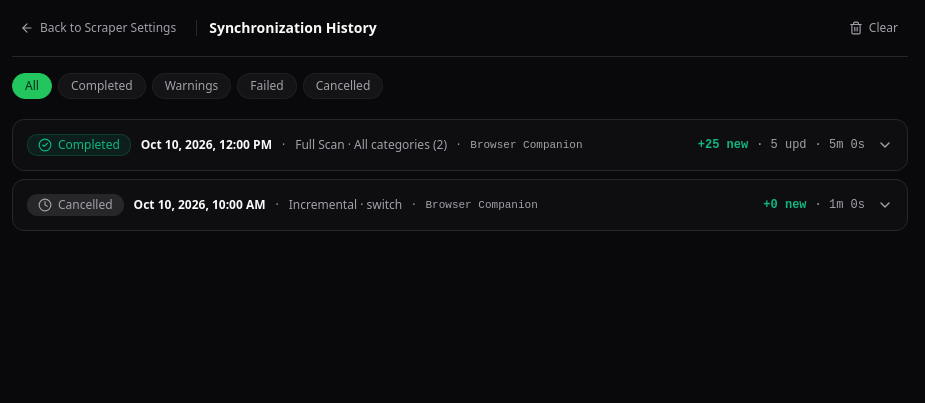
SyncHistoryView Component (V3-75) › expands run to reveal per-category details
The width and height of the screenshot is (925, 403).
Click the button "All categories (2)" at (460, 145), box [13,120,907,170]
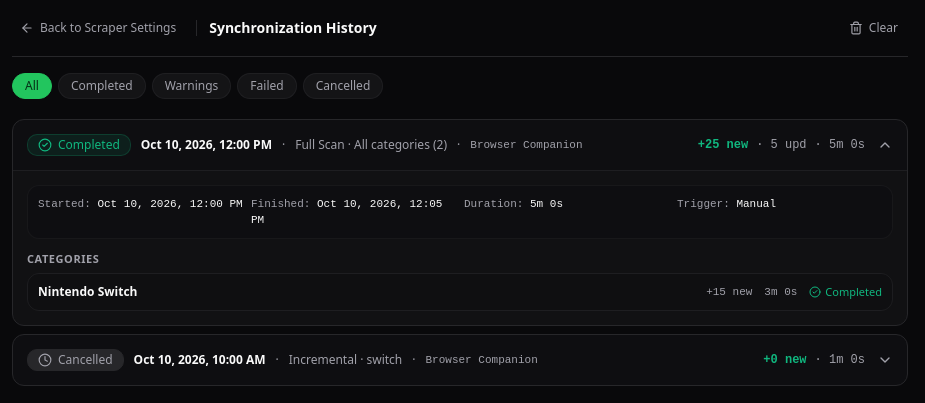
Expected: the text "Nintendo Switch" is shown, [38,283,137,300]
